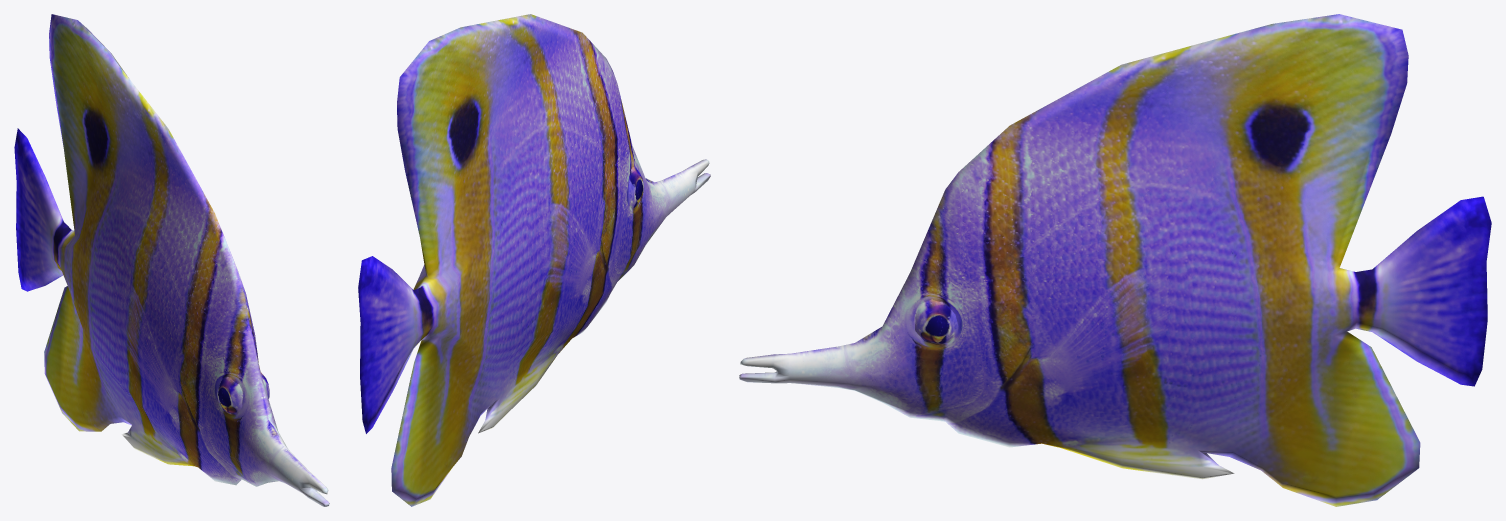
Rendered from ButterflyFish.fbx.
3 renders of one model, left to right at view 1: azimuth 30°, elevation 25°; view 2: azimuth 150°, elevation 25°; view 3: azimuth 270°, elevation 25°, orthographic. The views are drawn at different scales.
Parts seen in each view (by area): view 1: zuvite_Cube; view 2: zuvite_Cube; view 3: zuvite_Cube.
Boxes of the visible parts, x1,y1,x2,y2 form: zuvite_Cube: (14, 14, 329, 506); zuvite_Cube: (358, 14, 710, 506); zuvite_Cube: (739, 14, 1491, 506).
Bounding box in the file's own units: 16.39 × 99.46 × 138.
